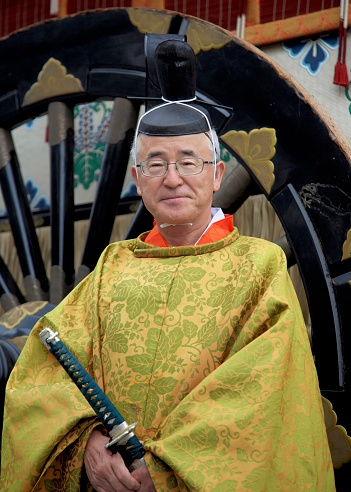em pe: (4, 92, 304, 492)
